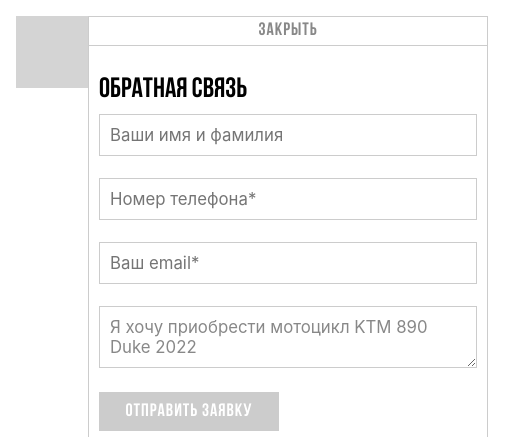
Order component › Input phone validation RegExp working
Type "+375291234567A" into the field with test id "phone". click: coordinates (288, 199)
box: [99,178,477,220]
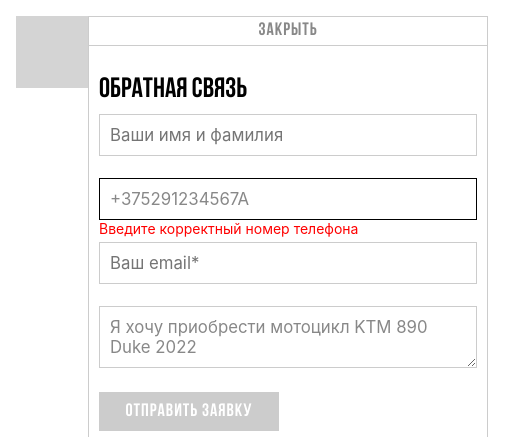
Check: the text "Введите корректный номер телефона" is shown, box [99,220,358,237]
